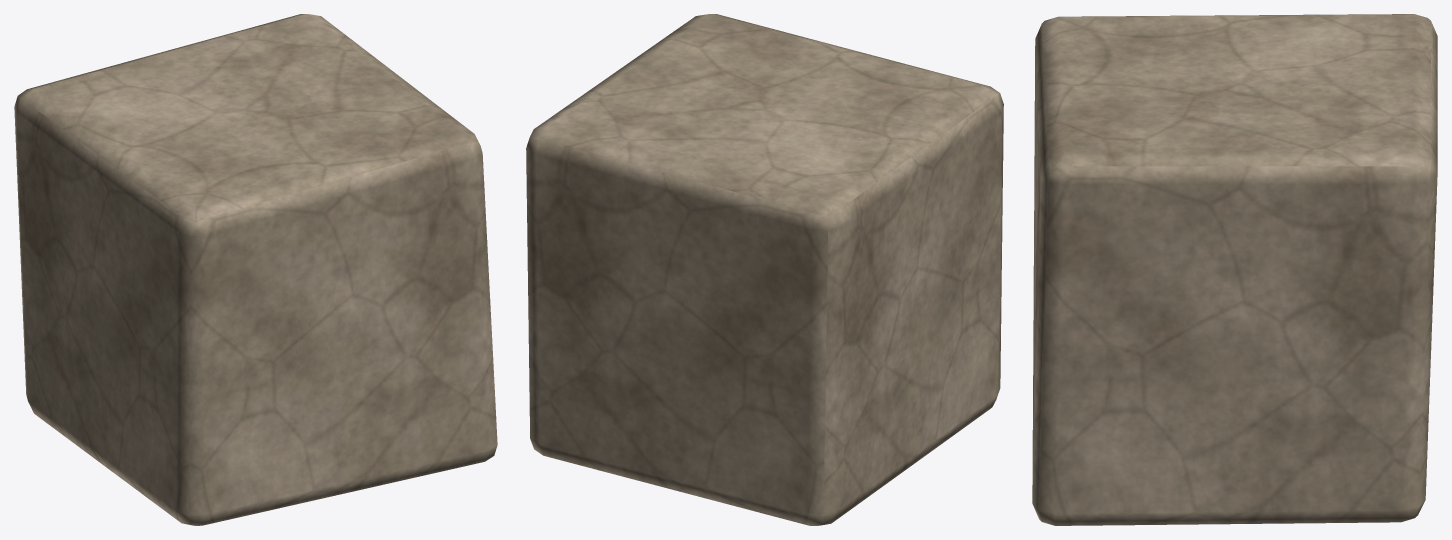
Rendered from Stone_Block_C.glb.
3 views of the same model, side by side, from view 1: azimuth 30°, elevation 25°; view 2: azimuth 150°, elevation 25°; view 3: azimuth 270°, elevation 25° (orthographic). The views are drawn at different scales.
Parts seen in each view (by area): view 1: Stone_Block_C; view 2: Stone_Block_C; view 3: Stone_Block_C.
Boxes of the visible parts, left/top/right/bottom form: Stone_Block_C: left=14, top=14, right=497, bottom=525; Stone_Block_C: left=526, top=14, right=1003, bottom=525; Stone_Block_C: left=1032, top=14, right=1437, bottom=525.
Size of the model in its own units: 0.5114 by 0.5147 by 0.5096.
1 material, 1 textured.
